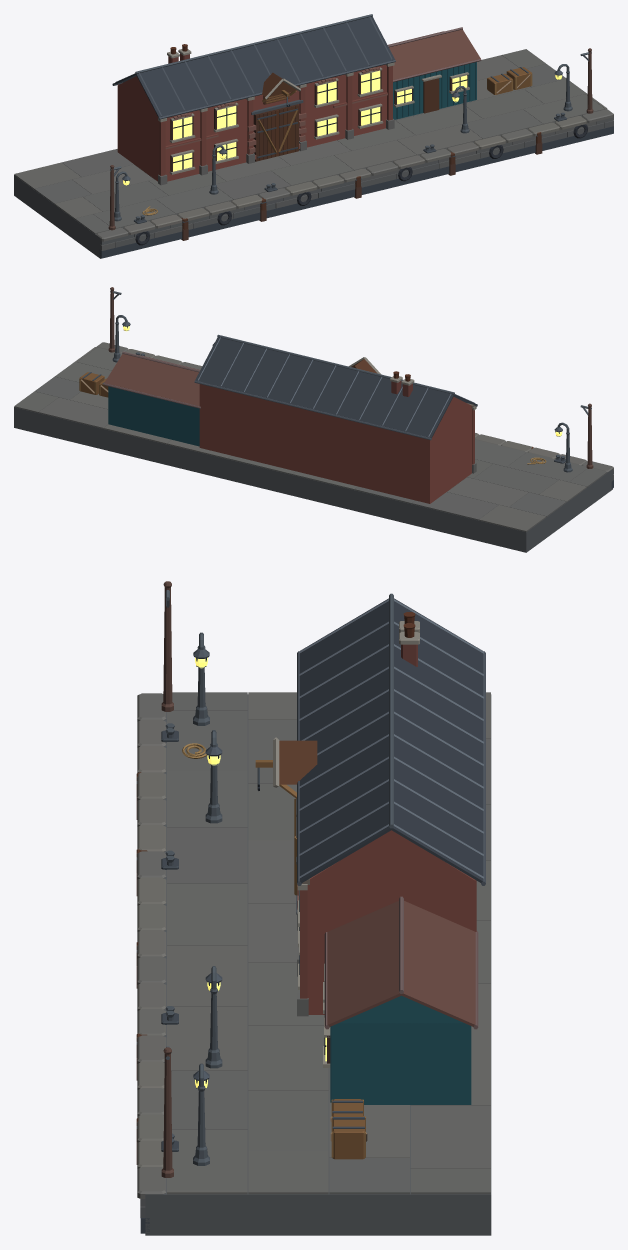
The model's file is dock_finish.glb.
3 views of the same model, one above another, from view 1: azimuth 30°, elevation 25°; view 2: azimuth 150°, elevation 25°; view 3: azimuth 270°, elevation 25° (orthographic). The views are drawn at different scales.
Parts seen in each view (by area): view 1: Quayside_PaintWoodStone_forms, Quayside_Hardware_forms, Quayside_TidalPolish_forms, M_WindowGlow_forms; view 2: Quayside_PaintWoodStone_forms, Quayside_Hardware_forms; view 3: Quayside_PaintWoodStone_forms, Quayside_Hardware_forms.
Part boxes in pixels (x1,y1,x2,y2): Quayside_PaintWoodStone_forms: (14,16,613,258); Quayside_Hardware_forms: (110,14,591,223); Quayside_TidalPolish_forms: (99,124,613,258); M_WindowGlow_forms: (173,70,467,171); Quayside_PaintWoodStone_forms: (14,287,613,552); Quayside_Hardware_forms: (82,291,591,472); Quayside_PaintWoodStone_forms: (136,581,491,1235); Quayside_Hardware_forms: (136,590,485,1165).
Size of the model in its own units: 40 by 9.6 by 12.
